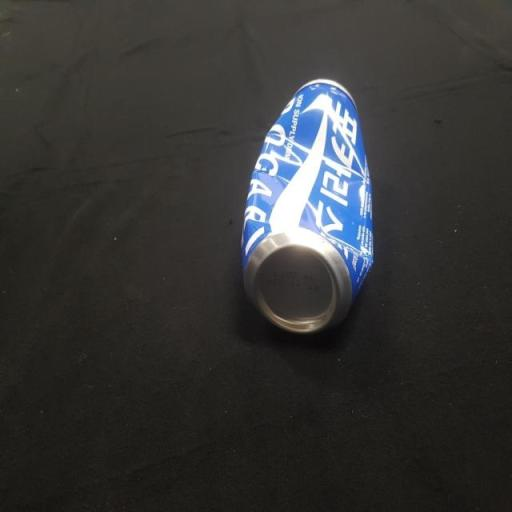metal: (234, 69, 380, 343)
